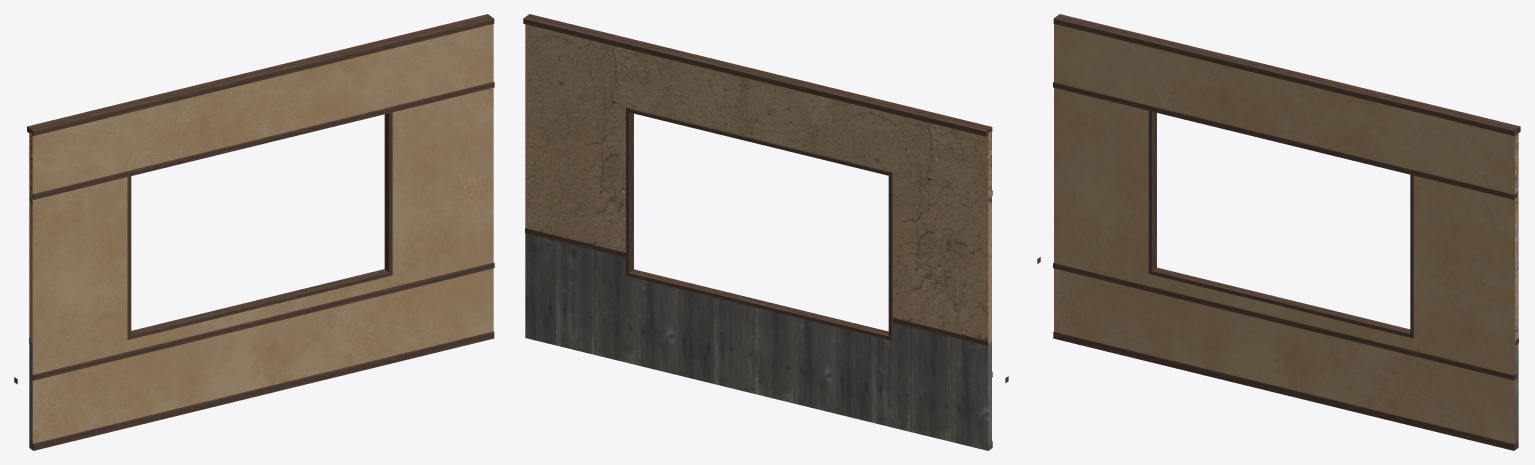
File: jov_outwall02_2t.mado_c1.fbx
The picture shows the model from 3 angles, left to right: view 1: azimuth 30°, elevation 25°; view 2: azimuth 150°, elevation 25°; view 3: azimuth 330°, elevation 25°; orthographic projection.
Visible parts, largest first — view 1: jov_outwall02_2t.mado_c1; view 2: jov_outwall02_2t.mado_c1; view 3: jov_outwall02_2t.mado_c1.
Boxes of the visible parts, box(x1,y1,x2,y2) form: jov_outwall02_2t.mado_c1: box(14, 14, 494, 450); jov_outwall02_2t.mado_c1: box(523, 14, 1008, 450); jov_outwall02_2t.mado_c1: box(1037, 14, 1520, 450).
Bounding box in the file's own units: 455 × 292 × 11.05.
